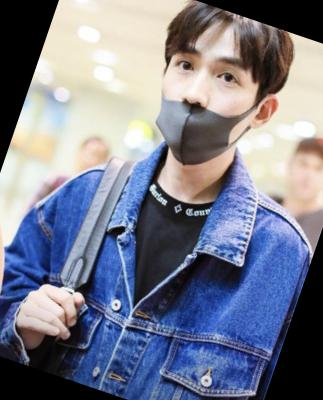mask_weared_incorrect: (137, 34, 271, 182)
without_mask: (283, 153, 323, 203)
